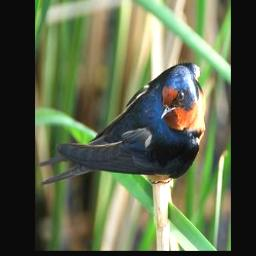Swallow: (37, 59, 207, 187)
